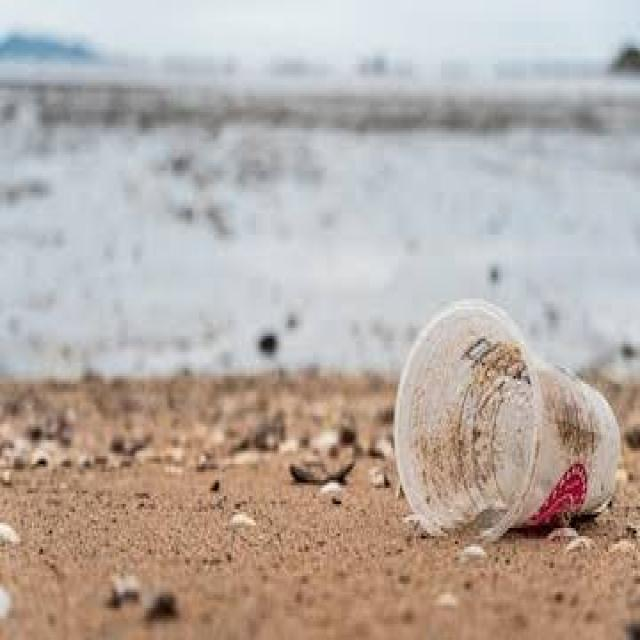plastic: (364, 285, 640, 624)
